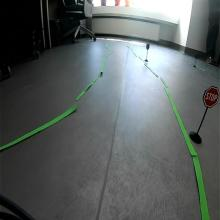stop: (202, 85, 220, 108)
